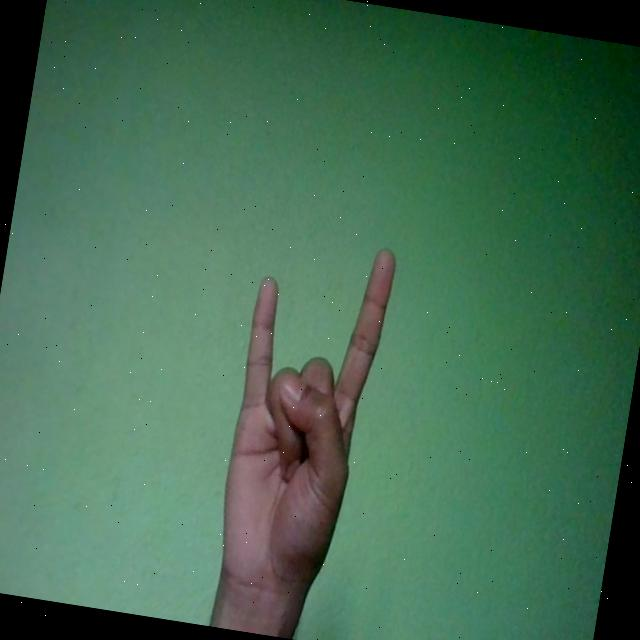open Plam: (205, 228, 398, 622)
